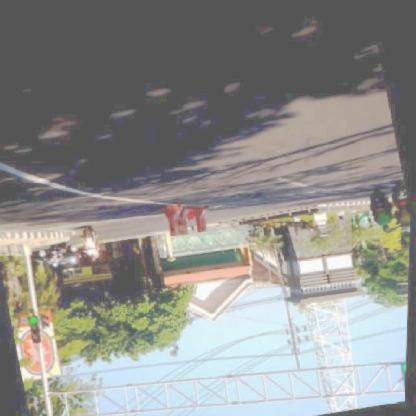Traffic Light -Green-: (29, 314, 46, 343), (402, 354, 408, 388)
